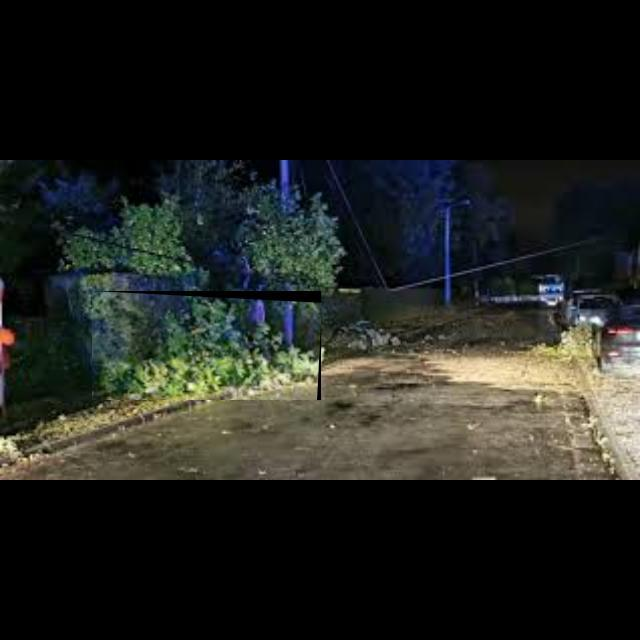fallen_tree: (92, 291, 322, 401)
